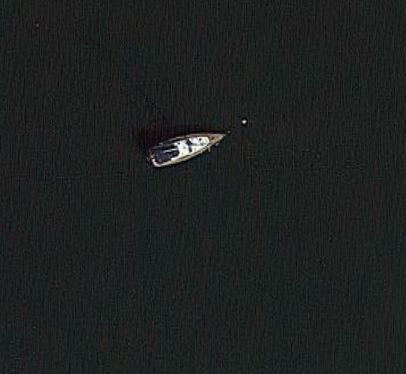boat: (145, 126, 233, 172)
